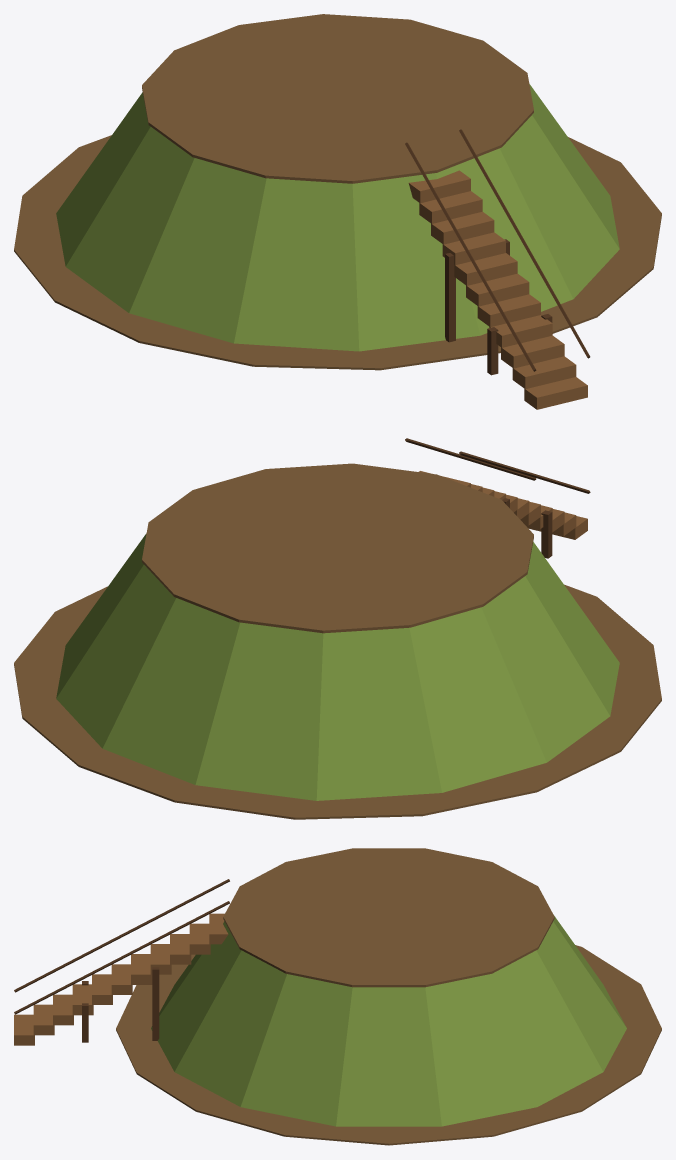
The model's file is castle_motte.glb.
The picture shows the model from 3 angles, top to bottom: view 1: azimuth 30°, elevation 25°; view 2: azimuth 150°, elevation 25°; view 3: azimuth 270°, elevation 25°; orthographic projection. The views are drawn at different scales.
Parts seen in each view (by area): view 1: castle_motte; view 2: castle_motte; view 3: castle_motte.
Boxes of the visible parts, x1,y1,x2,y2 form: castle_motte: [14, 14, 661, 409]; castle_motte: [14, 438, 661, 819]; castle_motte: [14, 848, 661, 1145].
Size of the model in its own units: 17.8 by 5.23 by 21.12.
